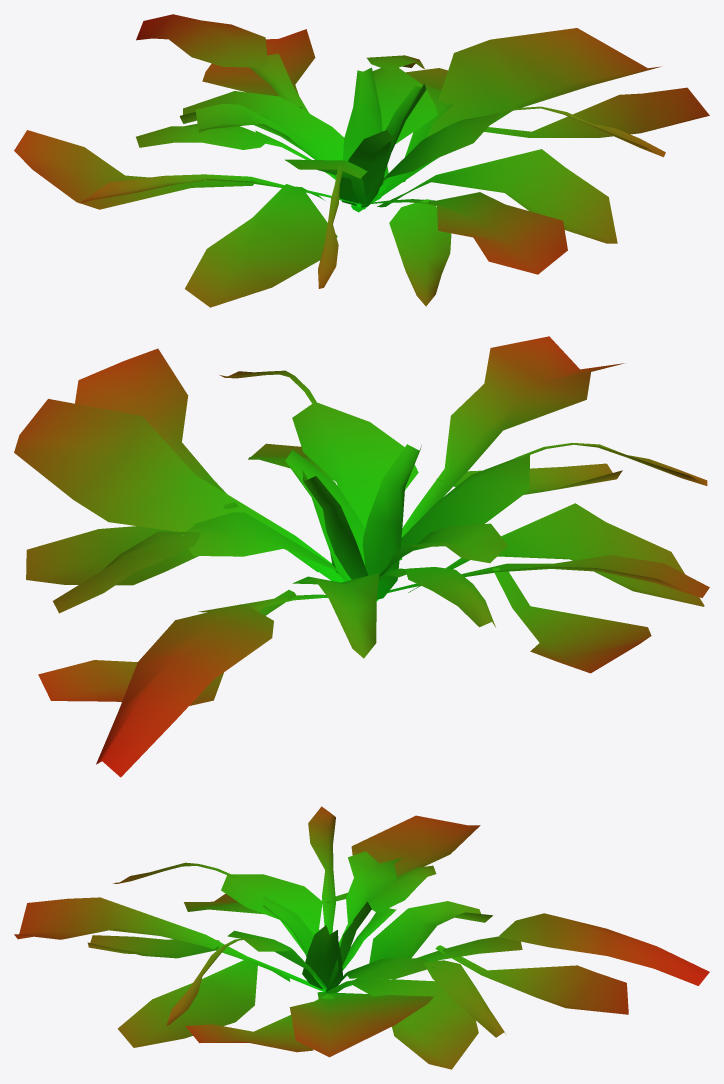
The model's file is Var5_LOD1.fbx.
3 views of the same model, one above another, from view 1: azimuth 30°, elevation 25°; view 2: azimuth 150°, elevation 25°; view 3: azimuth 270°, elevation 25° (orthographic). The views are drawn at different scales.
Visible parts, largest first — view 1: _b6b1_Var5_LOD1; view 2: _b6b1_Var5_LOD1; view 3: _b6b1_Var5_LOD1.
Boxes of the visible parts, x1,y1,x2,y2 form: _b6b1_Var5_LOD1: (14, 14, 709, 307); _b6b1_Var5_LOD1: (14, 336, 709, 777); _b6b1_Var5_LOD1: (14, 806, 709, 1069).
Bounding box in the file's own units: 53.26 × 10.55 × 64.44.
